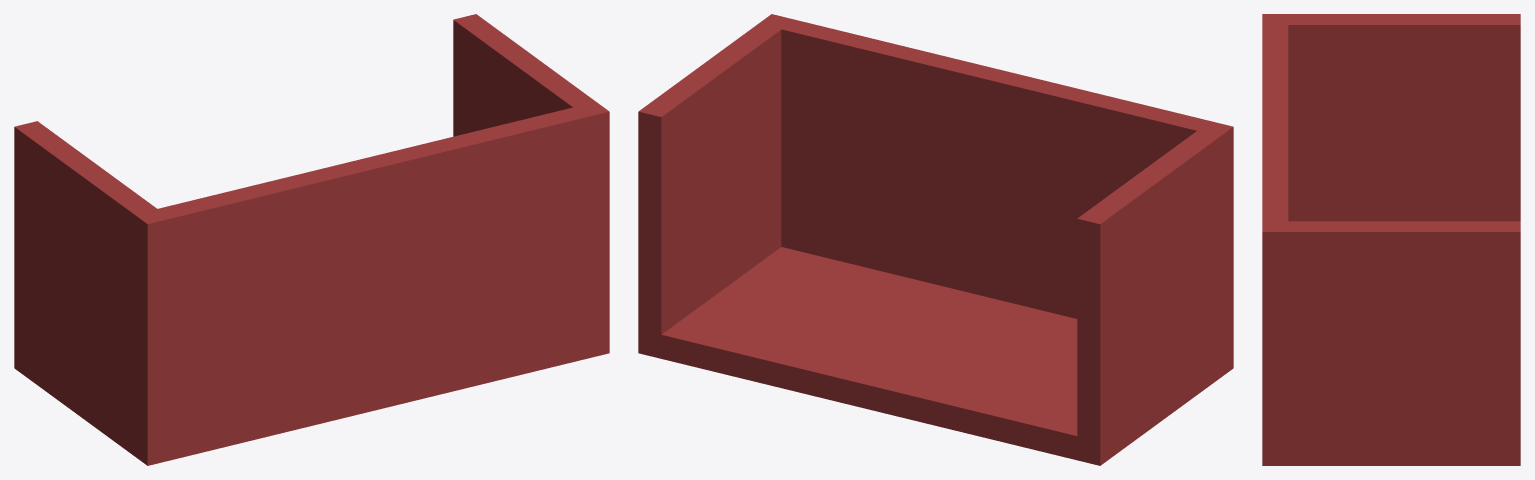
The model's file is balcony_short.fbx.
3 views of the same model, side by side, from view 1: azimuth 30°, elevation 25°; view 2: azimuth 150°, elevation 25°; view 3: azimuth 270°, elevation 25° (orthographic). The views are drawn at different scales.
Parts seen in each view (by area): view 1: balcony_short; view 2: balcony_short; view 3: balcony_short.
Part boxes in pixels (bbox=[...]): balcony_short: bbox=[14, 14, 609, 465]; balcony_short: bbox=[638, 14, 1233, 465]; balcony_short: bbox=[1262, 14, 1520, 465].
Size of the model in its own units: 4 by 2 by 2.
